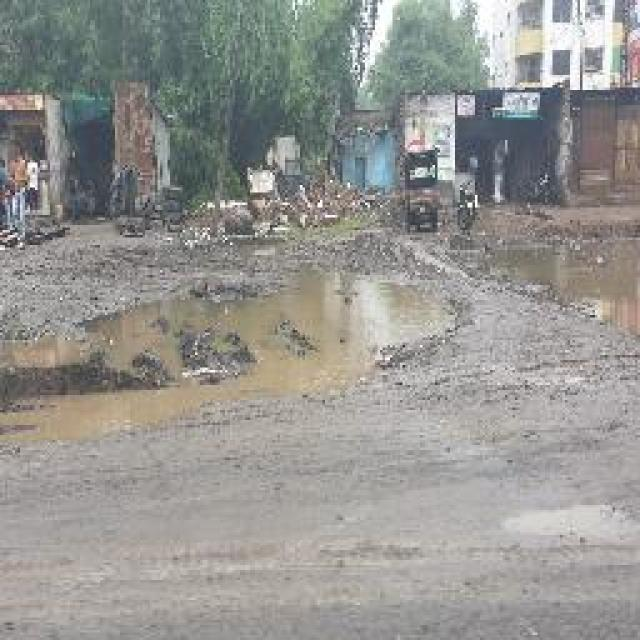puddle: (1, 285, 455, 444), (500, 248, 640, 335)
